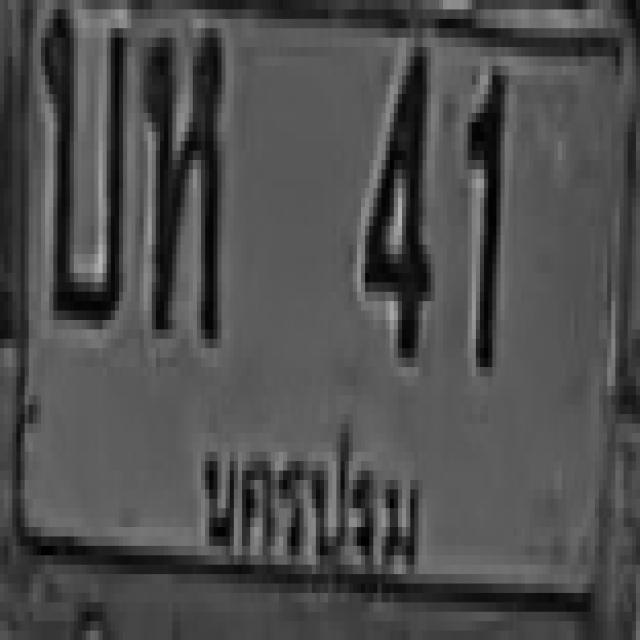1: (464, 61, 501, 362)
35BorBaiMai: (39, 0, 125, 320)
4: (361, 38, 427, 348)
50HorHeep: (140, 19, 218, 329)
NakhonPathom: (193, 402, 433, 600)
